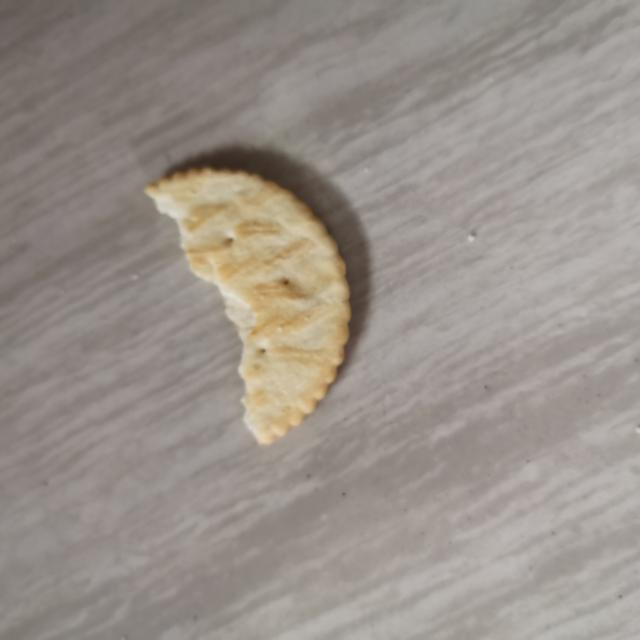Broken: (143, 164, 353, 446)
